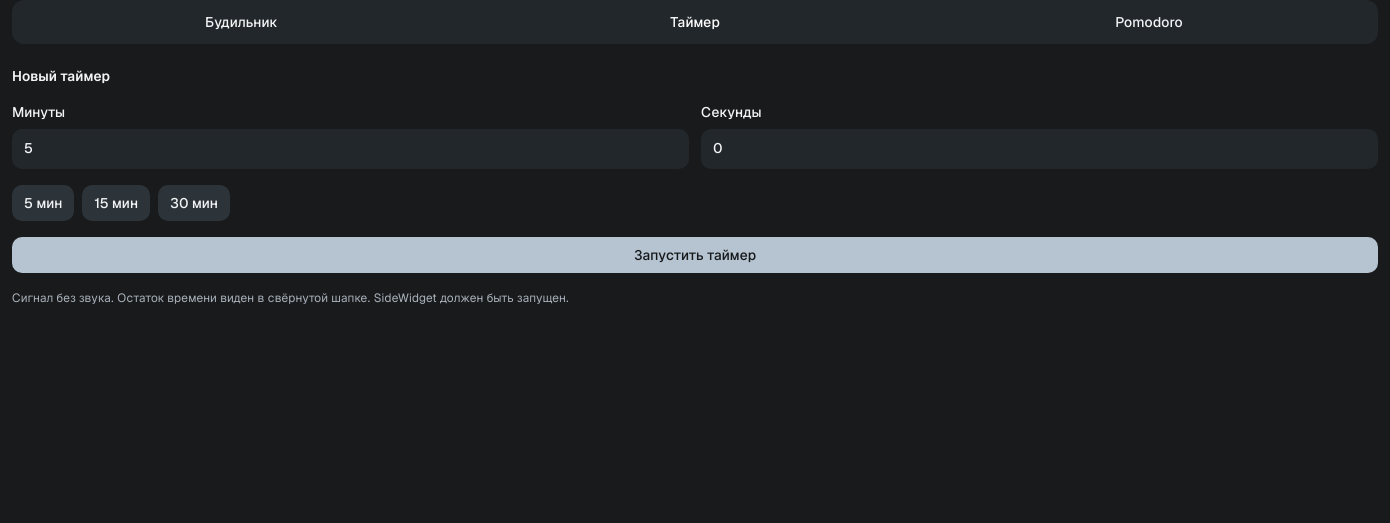
it: retains running timer while switching forms and provides pause/resume/reset
The image size is (1390, 523).
Click the button "Запустить таймер".
click(695, 255)  # box [12, 237, 1378, 273]
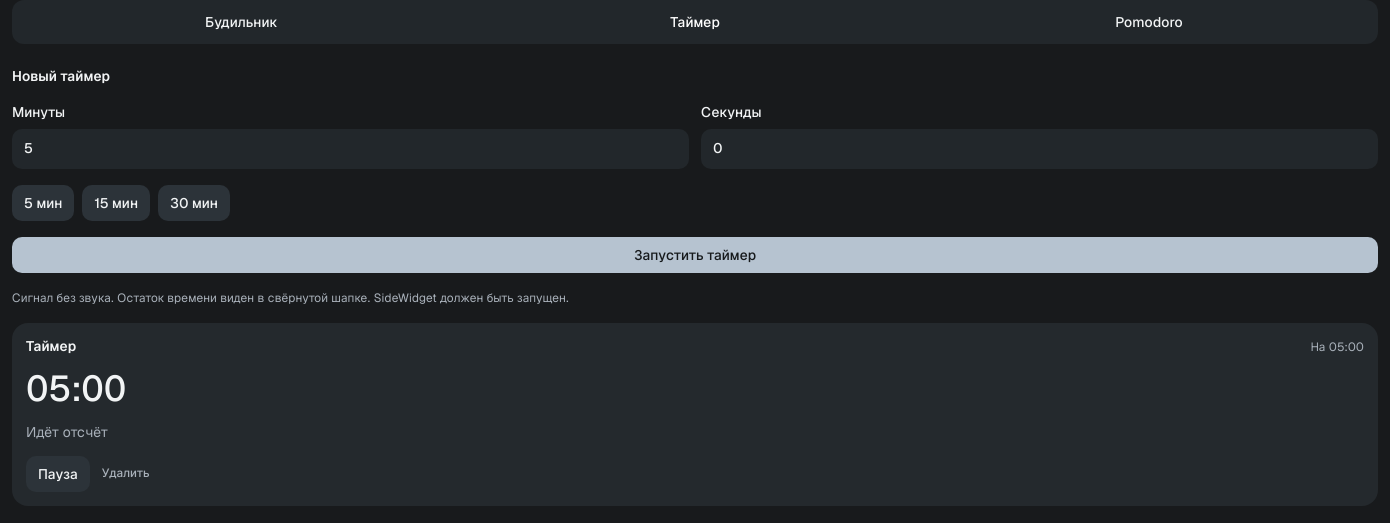
Expected: the button "Пауза" is shown, [26, 456, 90, 492]
Click the button "Будильник".
click(241, 22)  # box [16, 4, 466, 40]
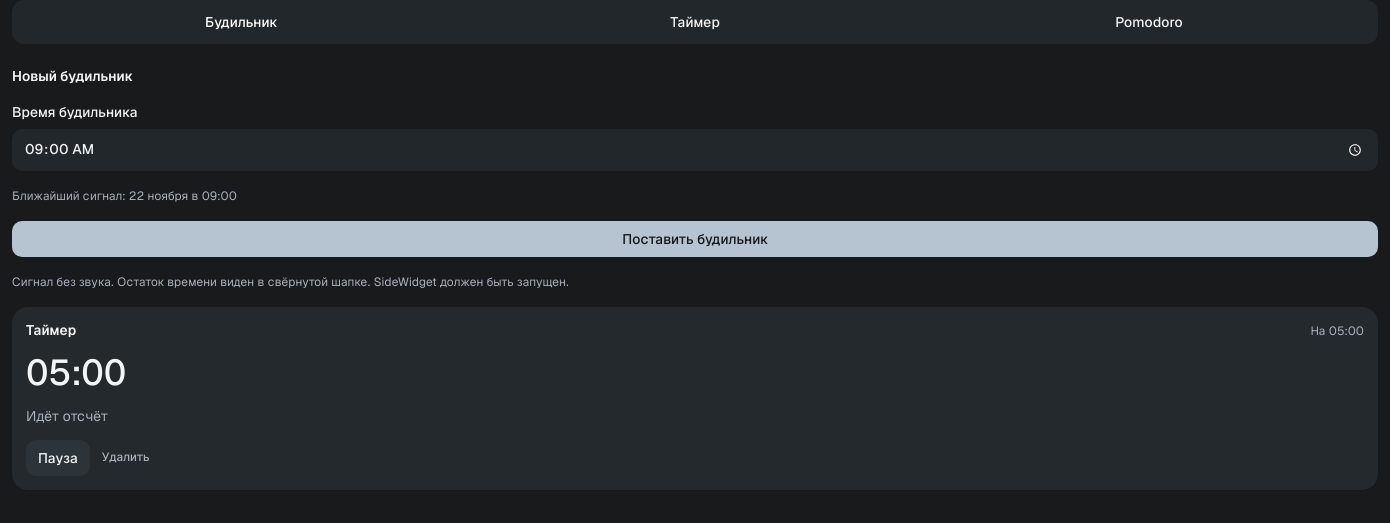
Expected: the button "Пауза" is shown
Click the button "Пауза".
click(58, 458)  # box [26, 440, 90, 476]
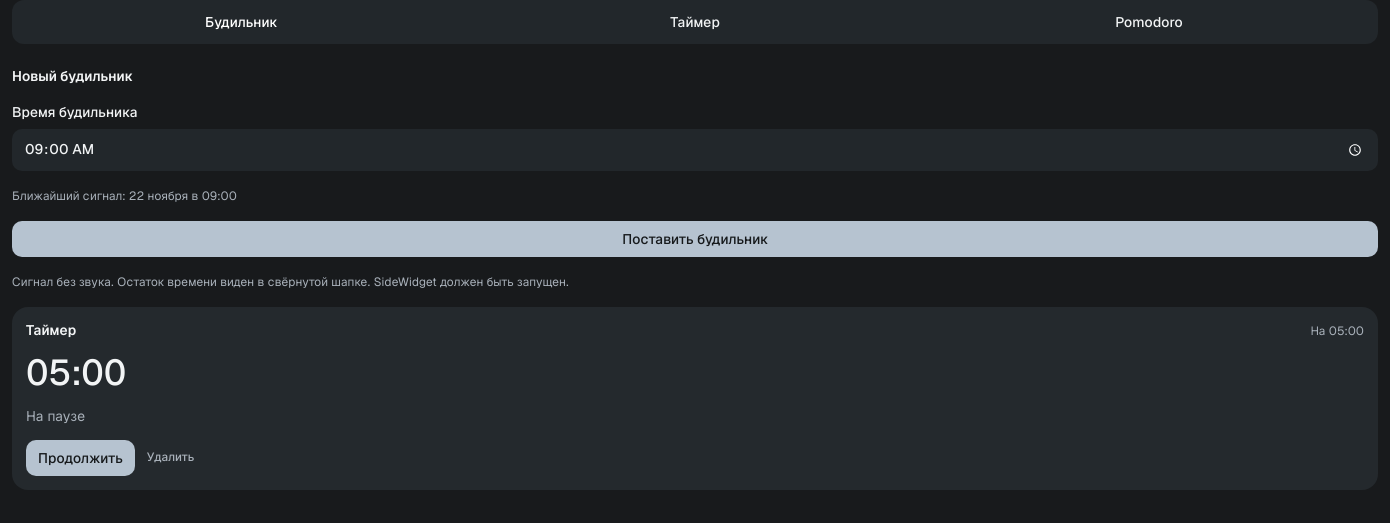
Expected: the text "На паузе" is shown, [26, 407, 85, 425]
Click the button "Продолжить".
click(80, 458)  # box [26, 440, 135, 476]
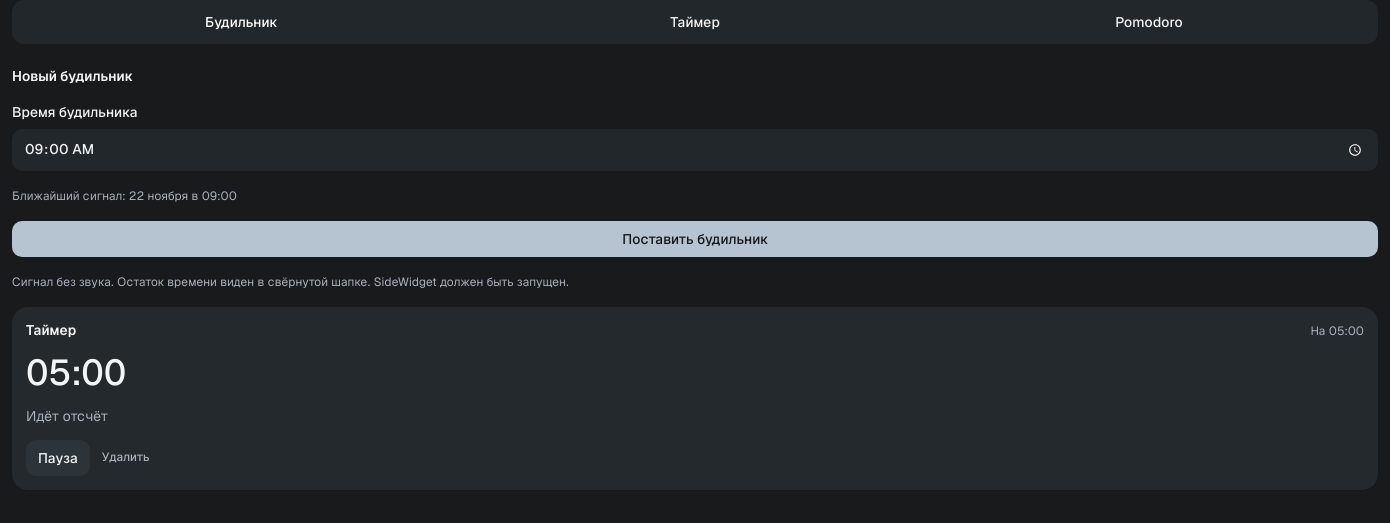
Click the button "Удалить".
click(126, 458)  # box [98, 440, 153, 476]
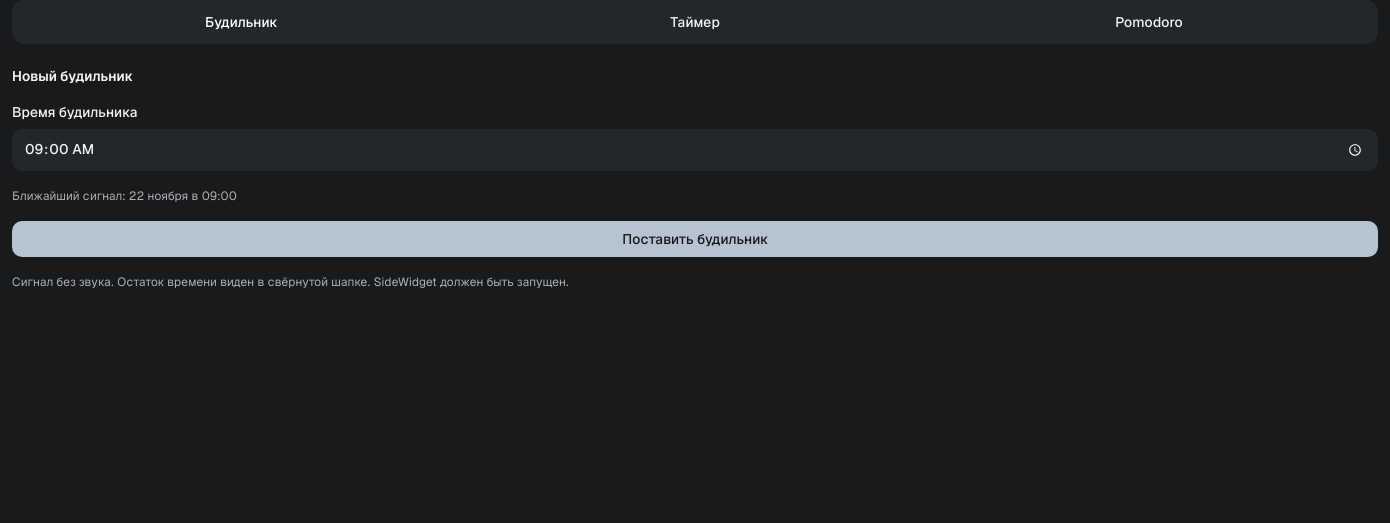
Expected: the button "Пауза" is gone
